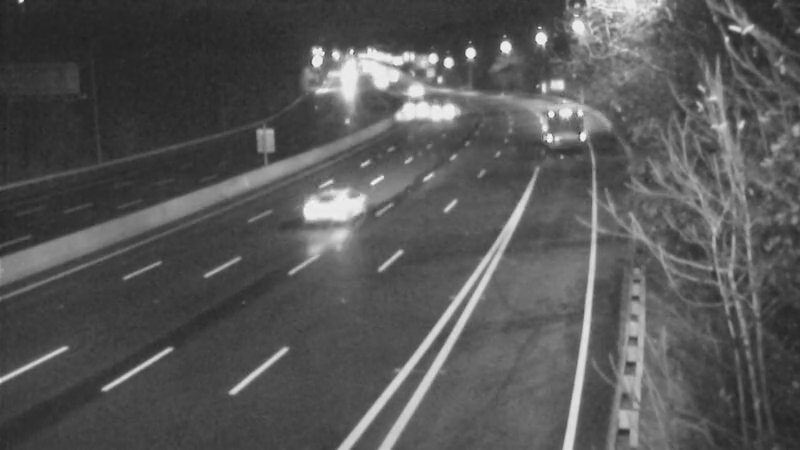vehicle: (287, 162, 367, 242), (388, 66, 438, 116), (414, 87, 464, 137), (387, 89, 437, 139), (531, 95, 581, 145)
